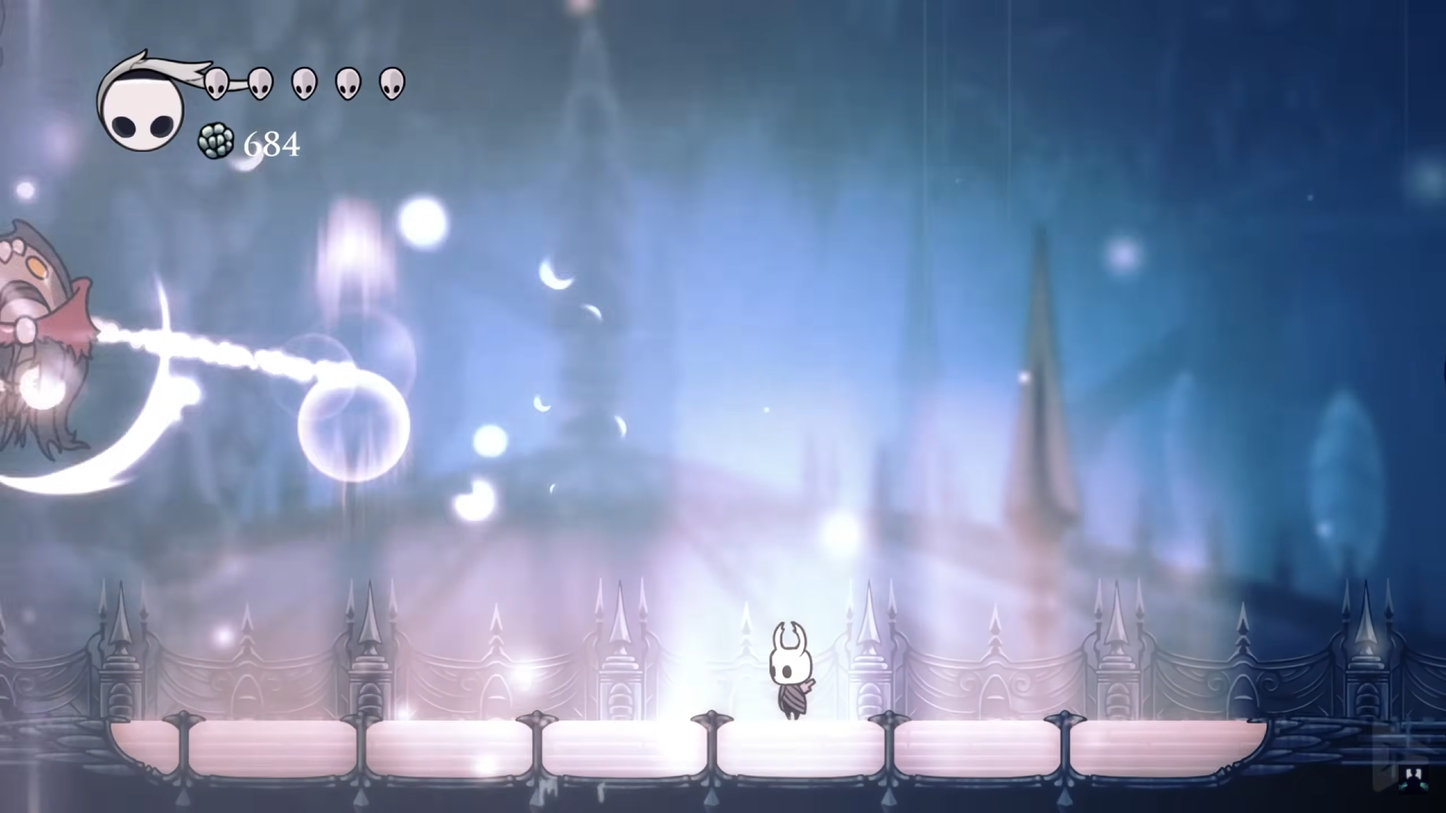HK: (763, 617, 821, 724)
